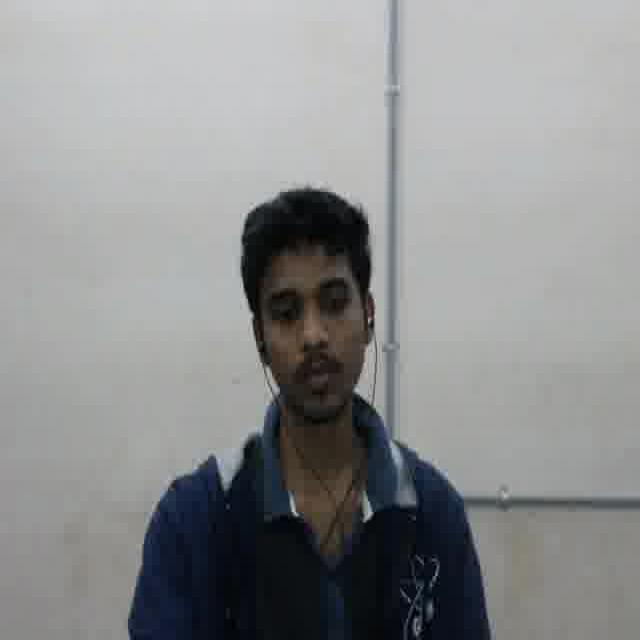Boredom: (257, 242, 361, 414)
